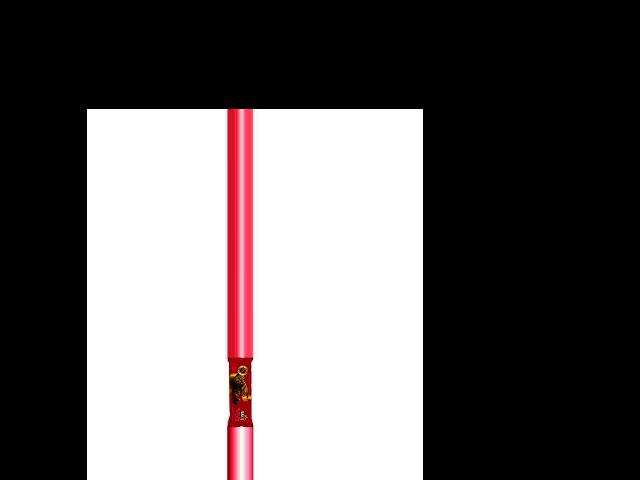chocolate: (225, 358, 252, 427)
